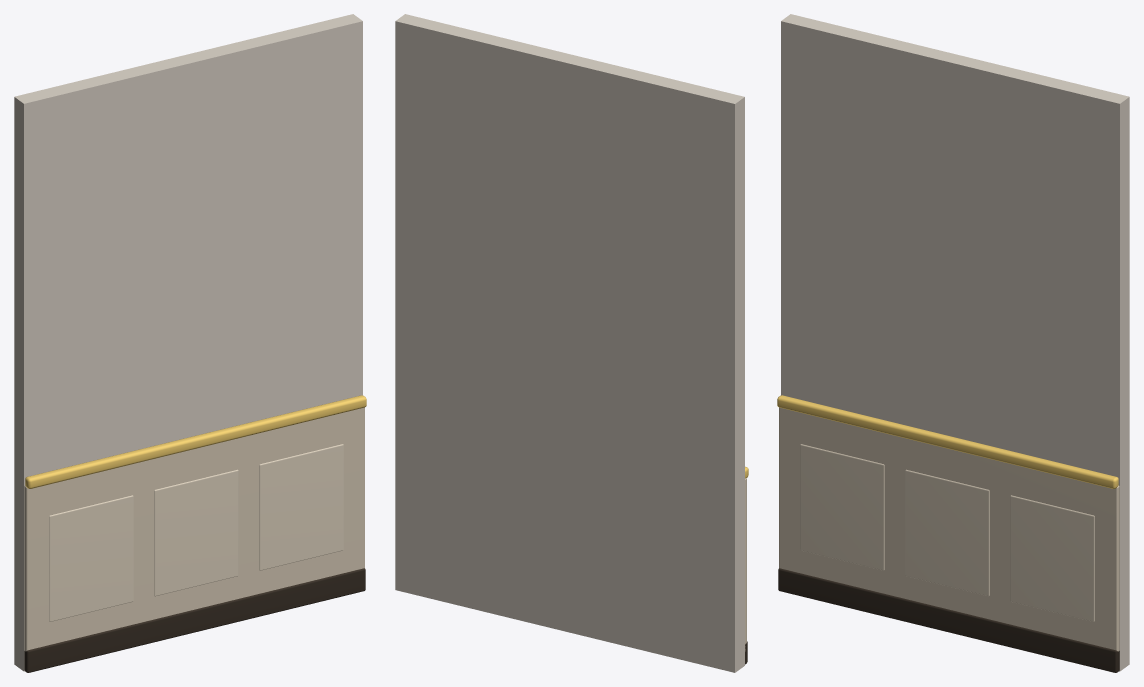
Rendered from wall_panel_light.glb.
The picture shows the model from 3 angles, left to right: view 1: azimuth 30°, elevation 25°; view 2: azimuth 150°, elevation 25°; view 3: azimuth 330°, elevation 25°; orthographic projection.
Visible parts, largest first — view 1: wall_panel_light; view 2: wall_panel_light; view 3: wall_panel_light.
Part boxes in pixels (x1=…): wall_panel_light: x1=14, y1=14, x2=366, y2=672; wall_panel_light: x1=395, y1=14, x2=748, y2=672; wall_panel_light: x1=777, y1=14, x2=1129, y2=672.
Bounding box in the file's own units: 2 × 3.2 × 0.15.
